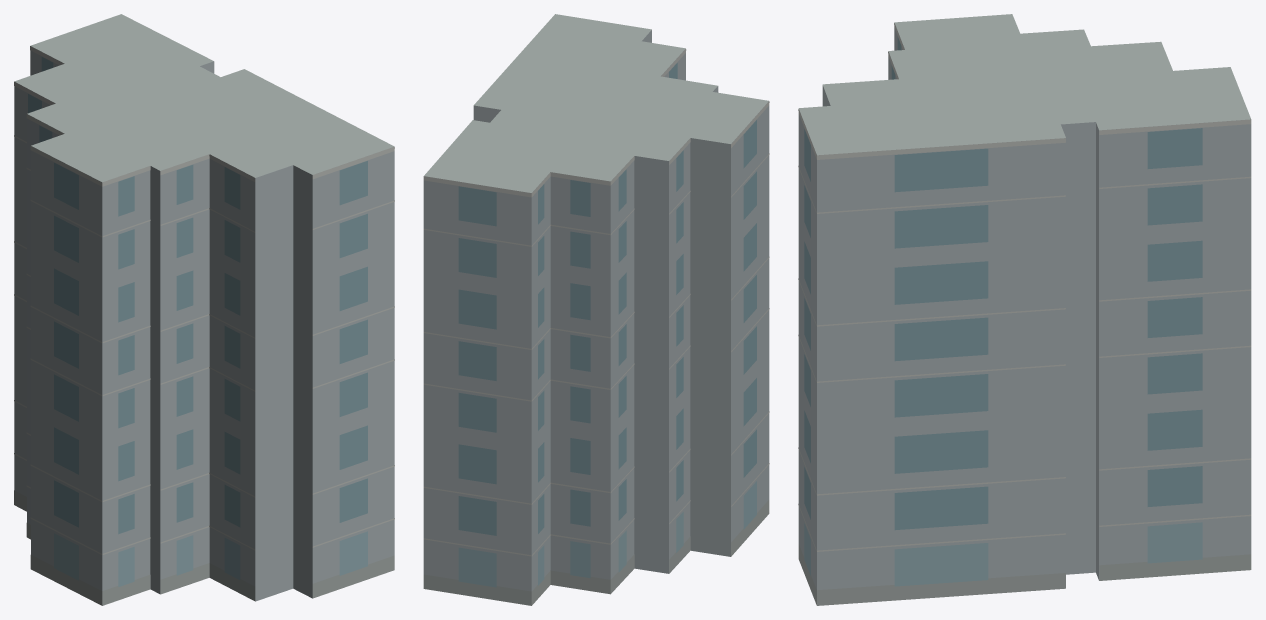
Rendered from survey-upis-32741366.glb.
3 views of the same model, side by side, from view 1: azimuth 30°, elevation 25°; view 2: azimuth 150°, elevation 25°; view 3: azimuth 270°, elevation 25° (orthographic). The views are drawn at different scales.
Visible parts, largest first — view 1: survey-upis-32741366.tmp; view 2: survey-upis-32741366.tmp; view 3: survey-upis-32741366.tmp.
Part boxes in pixels (x1,y1,x2,y2): survey-upis-32741366.tmp: (14,14,394,605); survey-upis-32741366.tmp: (423,14,769,605); survey-upis-32741366.tmp: (798,14,1251,605).
Size of the model in its own units: 15.56 by 23.1 by 21.06.
